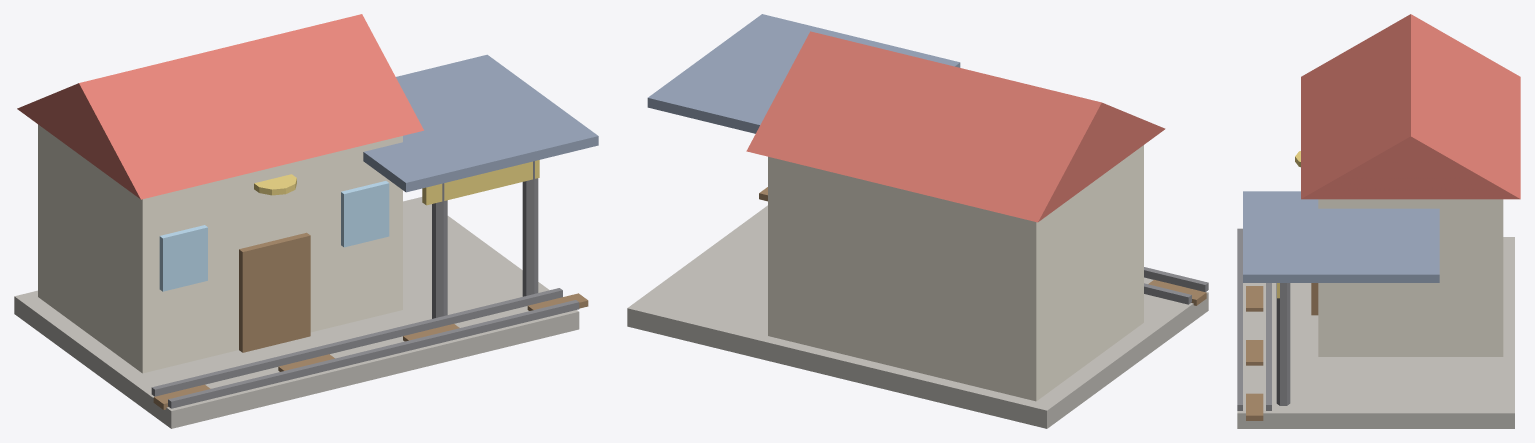
Rendered from station.glb.
3 views of the same model, side by side, from view 1: azimuth 30°, elevation 25°; view 2: azimuth 150°, elevation 25°; view 3: azimuth 270°, elevation 25° (orthographic). The views are drawn at different scales.
Visible parts, largest first — view 1: station; view 2: station; view 3: station.
Part boxes in pixels (x1,y1,x2,y2): station: [14, 14, 598, 428]; station: [627, 14, 1208, 428]; station: [1237, 14, 1520, 428].
Bounding box in the file's own units: 7.65 × 4.6 × 4.9.
